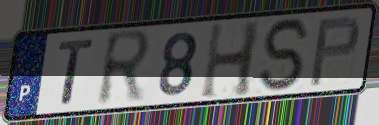8: (157, 30, 199, 98)
H: (198, 19, 264, 102)
P: (307, 13, 363, 89)
R: (94, 27, 155, 111)
S: (258, 16, 314, 95)
T: (56, 36, 96, 107)
